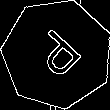P_SE: (25, 23, 88, 85)
